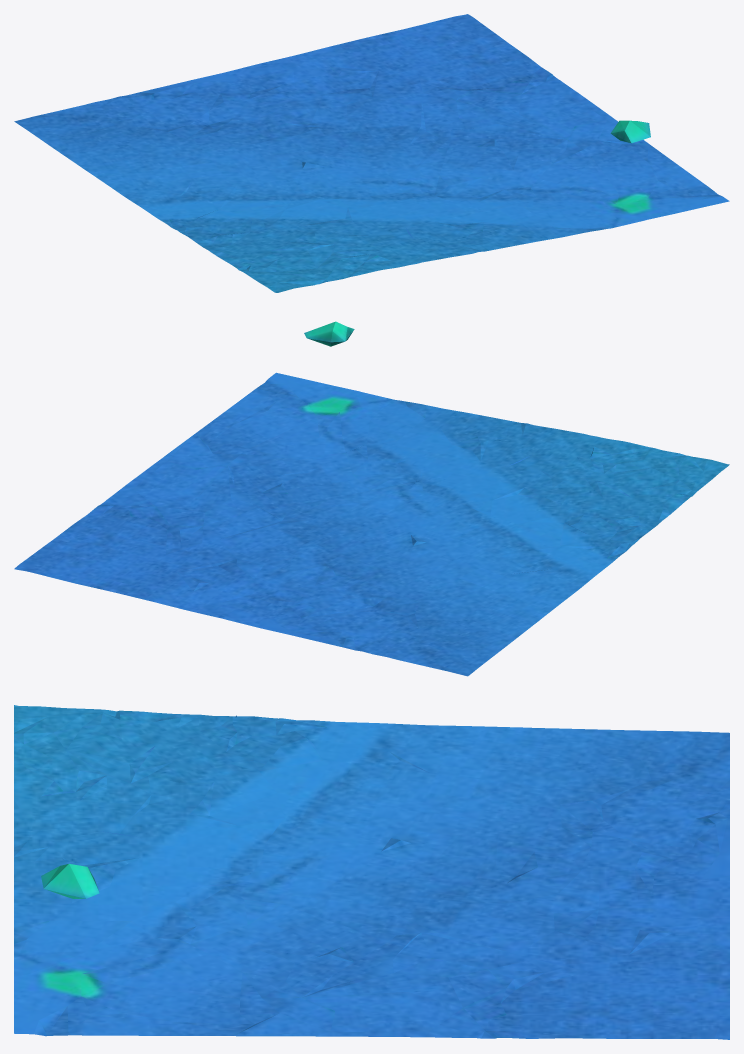
3 views of the same model, one above another, from view 1: azimuth 30°, elevation 25°; view 2: azimuth 150°, elevation 25°; view 3: azimuth 270°, elevation 25° (orthographic). The views are drawn at different scales.
Bounding box in the file's own units: 13.06 × 2.47 × 13.06.
Materials: 2 (2 with a texture image).
